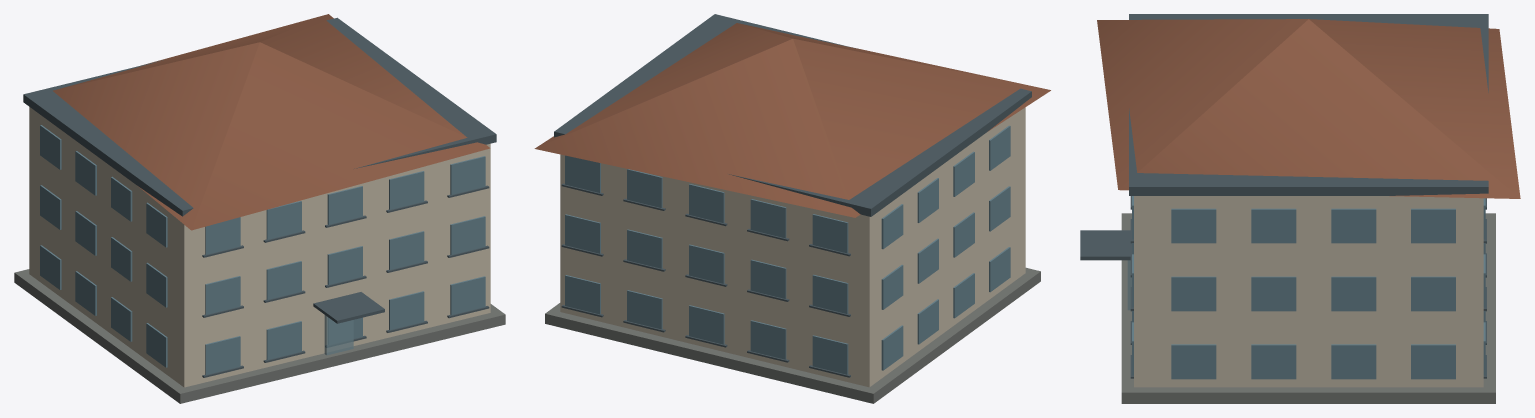
File: building-house.glb
3 renders of one model, left to right at view 1: azimuth 30°, elevation 25°; view 2: azimuth 150°, elevation 25°; view 3: azimuth 270°, elevation 25°, orthographic. The views are drawn at different scales.
Parts seen in each view (by area): view 1: main_volume, house, window (×27), foundation, roof, entry_canopy, entry; view 2: main_volume, house, window (×27), foundation, roof; view 3: house, main_volume, window (×12), roof, foundation, entry_canopy.
Boxes of the visible parts, left/top/right/bottom form: main_volume: left=29, top=107, right=490, bottom=387; house: left=53, top=14, right=490, bottom=230; window (×27): left=40, top=125, right=485, bottom=374; foundation: left=14, top=269, right=505, bottom=403; roof: left=23, top=17, right=496, bottom=216; entry_canopy: left=313, top=292, right=384, bottom=323; entry: left=324, top=315, right=353, bottom=355; main_volume: left=560, top=107, right=1025, bottom=387; house: left=534, top=23, right=1050, bottom=217; window (×27): left=565, top=125, right=1010, bottom=374; foundation: left=545, top=267, right=1040, bottom=403; roof: left=554, top=14, right=1031, bottom=216; house: left=1097, top=19, right=1520, bottom=198; main_volume: left=1134, top=196, right=1483, bottom=387; window (×12): left=1171, top=208, right=1455, bottom=379; roof: left=1129, top=14, right=1488, bottom=195; foundation: left=1121, top=213, right=1495, bottom=403; entry_canopy: left=1080, top=230, right=1131, bottom=260.
Size of the model in its own units: 17 by 13.05 by 17.64.
